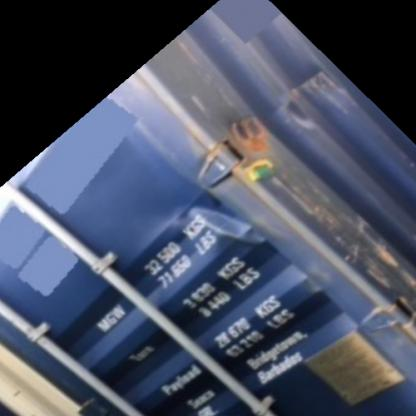Damage: (280, 173, 415, 335), (269, 63, 347, 135), (173, 202, 270, 246)
